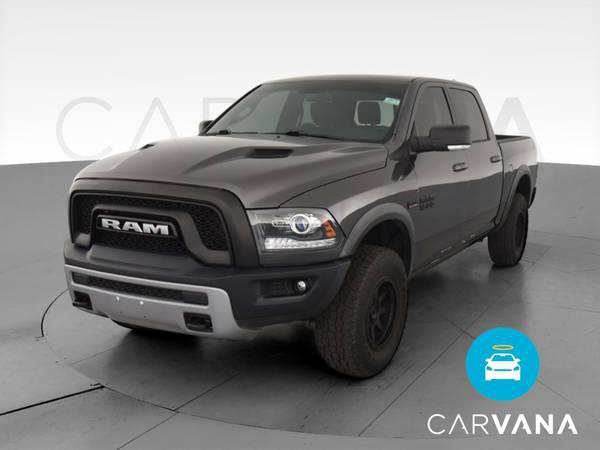Front_Bumper: (63, 242, 348, 333)
Front_Fender: (280, 134, 423, 275)
Front_Left_Door: (411, 146, 475, 268)
Front_Left_Window: (409, 88, 464, 150)
Front_Windshield: (207, 78, 414, 143)
Grille: (69, 178, 262, 265)
Hood: (71, 134, 386, 206)
Left_Headlight: (248, 207, 347, 263)
Rear_Fender: (499, 135, 539, 225)
Rear_Left_Door: (465, 140, 508, 243)
Rear_Left_Window: (448, 88, 492, 145)
Roof: (390, 78, 499, 146)
Wheel: (321, 245, 416, 389), (490, 194, 534, 265)
